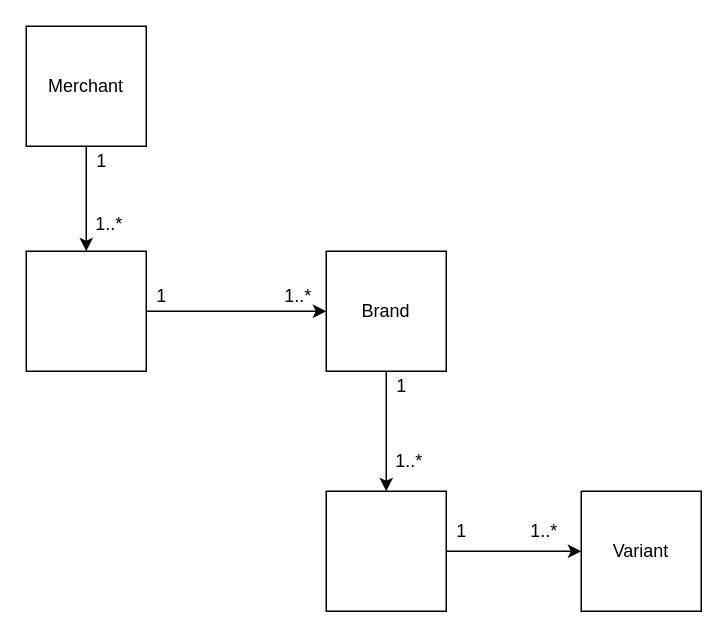
Image size: 728x638. Some labels were removed from this diagram. The box of each missing label's shape, as (x1, y1, x2, y2) in pixels:
Category: (25, 250, 146, 371)
Product: (325, 490, 446, 611)
